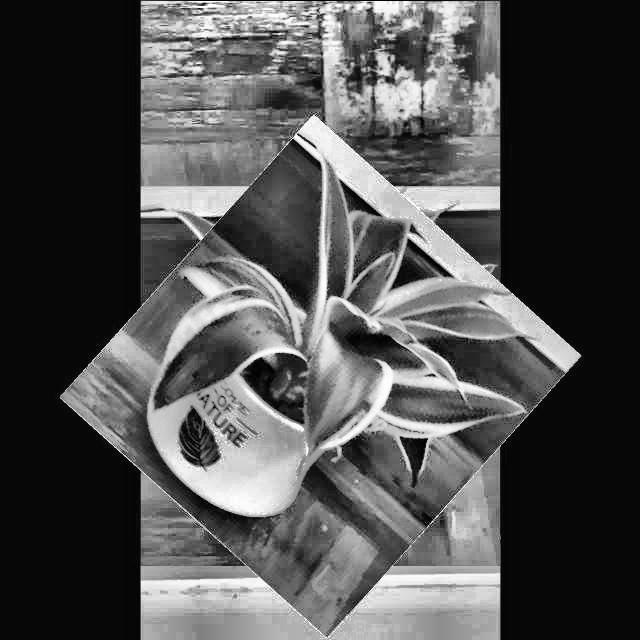plants: (100, 150, 540, 602)
